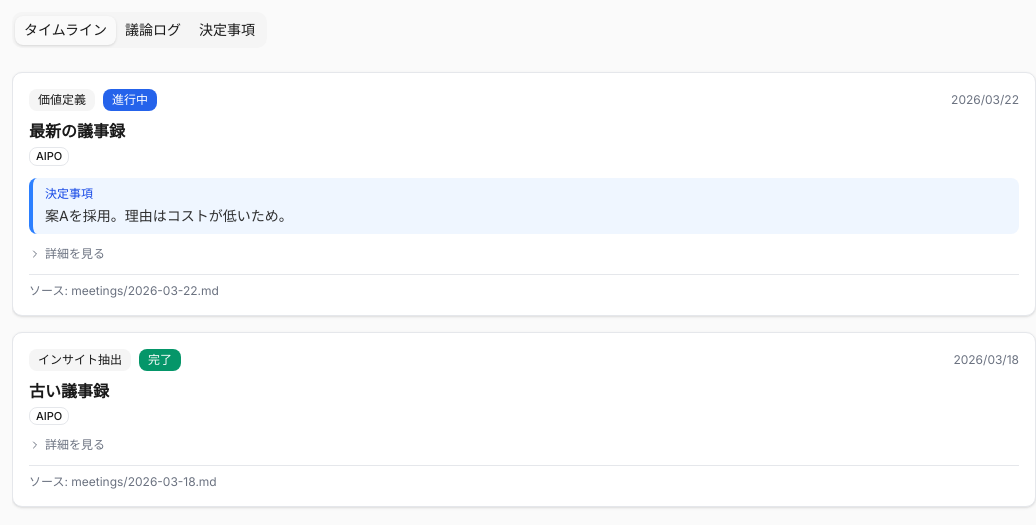
TimelineTab › shows empty state for discussion logs when none exist
Click the tab "議論ログ": (153, 30) [116,16,190,44]
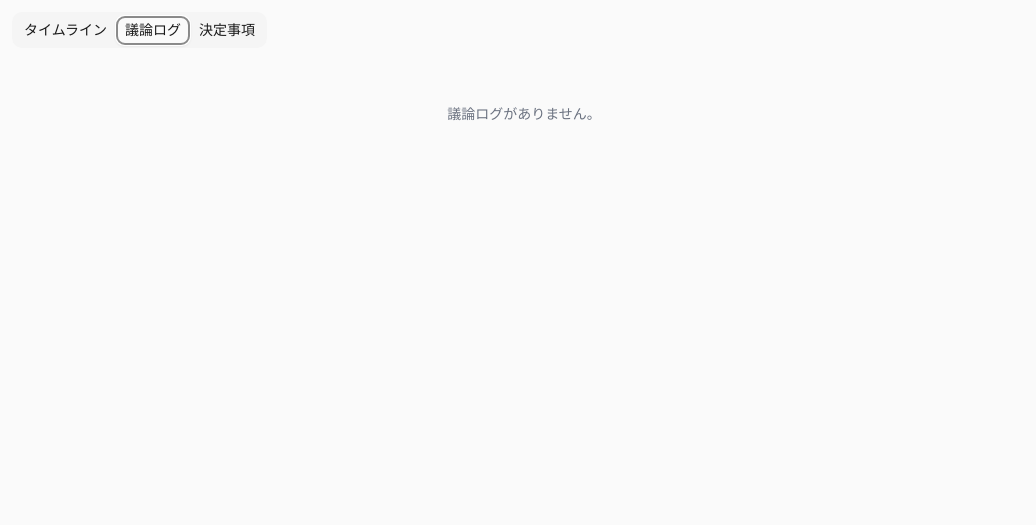
Check: the text "議論ログがありません。" is shown, box [447,105,601,122]
